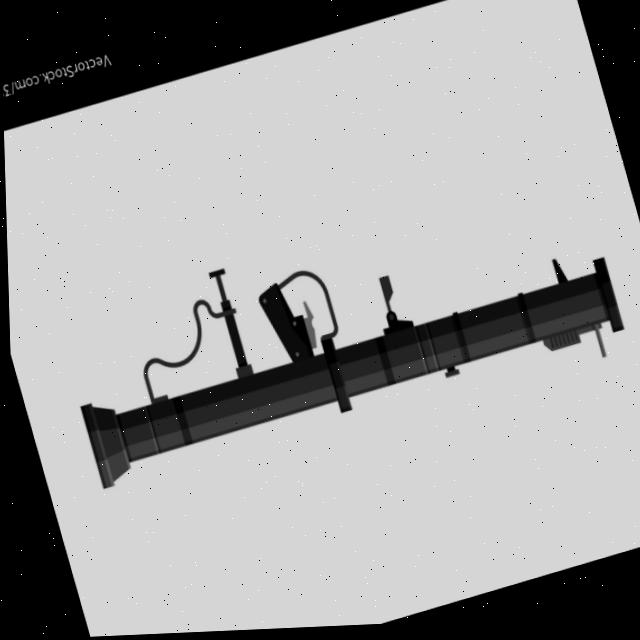rocket: (44, 158, 634, 512)
